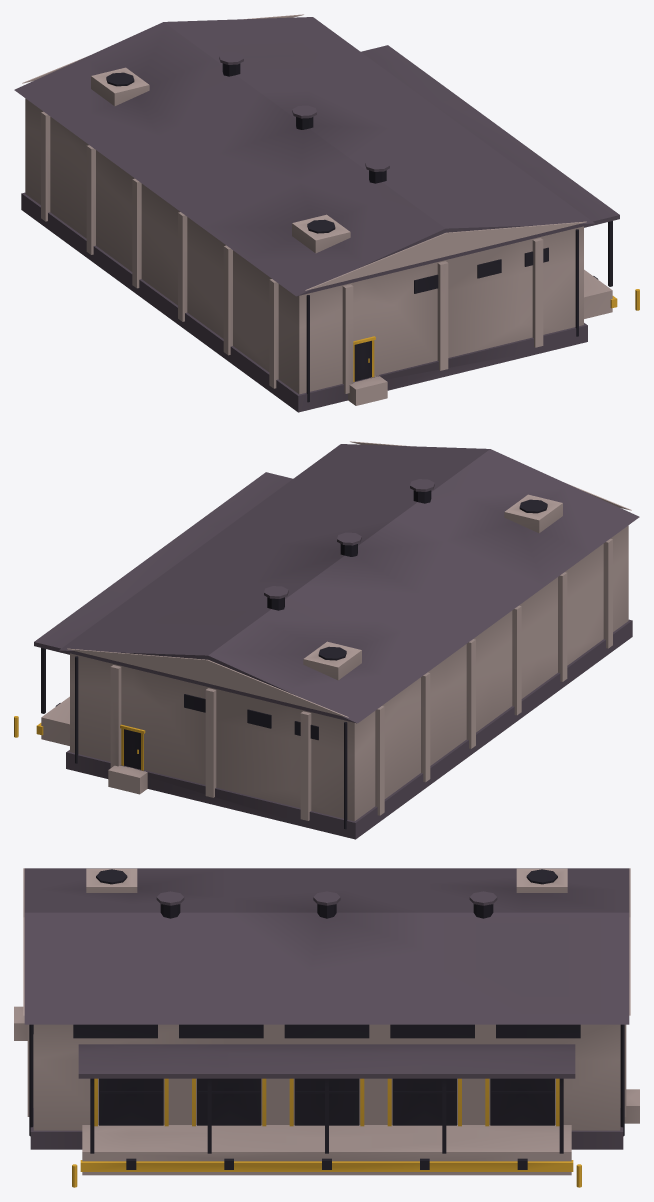
The model's file is bld.cure-warehouse.lod1.glb.
The picture shows the model from 3 angles, top to bottom: view 1: azimuth 30°, elevation 25°; view 2: azimuth 150°, elevation 25°; view 3: azimuth 270°, elevation 25°; orthographic projection. The views are drawn at different scales.
Parts seen in each view (by area): view 1: body; view 2: body; view 3: body.
Boxes of the visible parts, x1=… form: body: x1=14, y1=14, x2=639, y2=412; body: x1=14, y1=441, x2=639, y2=839; body: x1=14, y1=868, x2=639, y2=1187.
Size of the model in its own units: 23.18 by 9.98 by 32.
